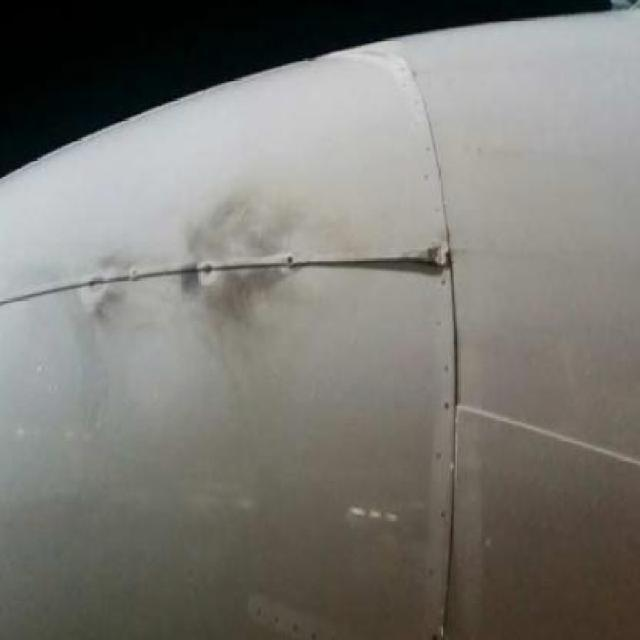crack: (303, 256, 454, 277)
